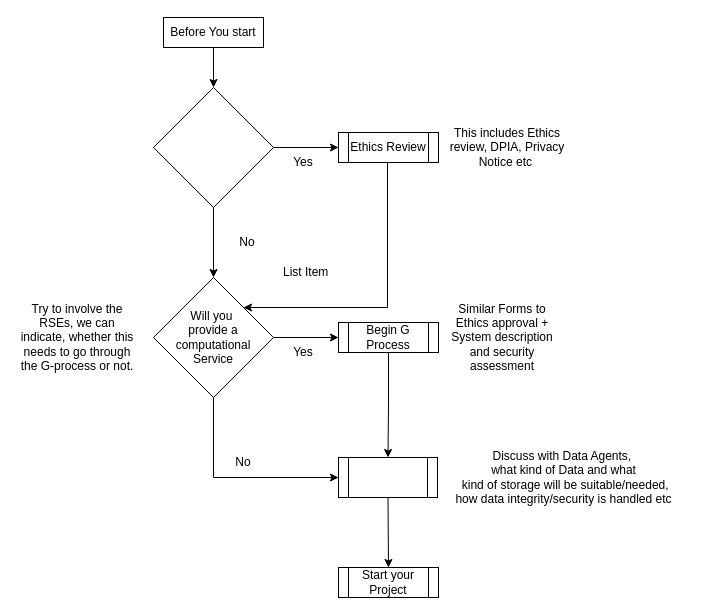
This 705x615 diagram has some shape labels left out. Here are the shapes that lost their labels. From the top down, the centre of each, then its label:
the point at 213,147: Are there any potential Ethics Implications?
the point at 388,477: Data Management Plan
